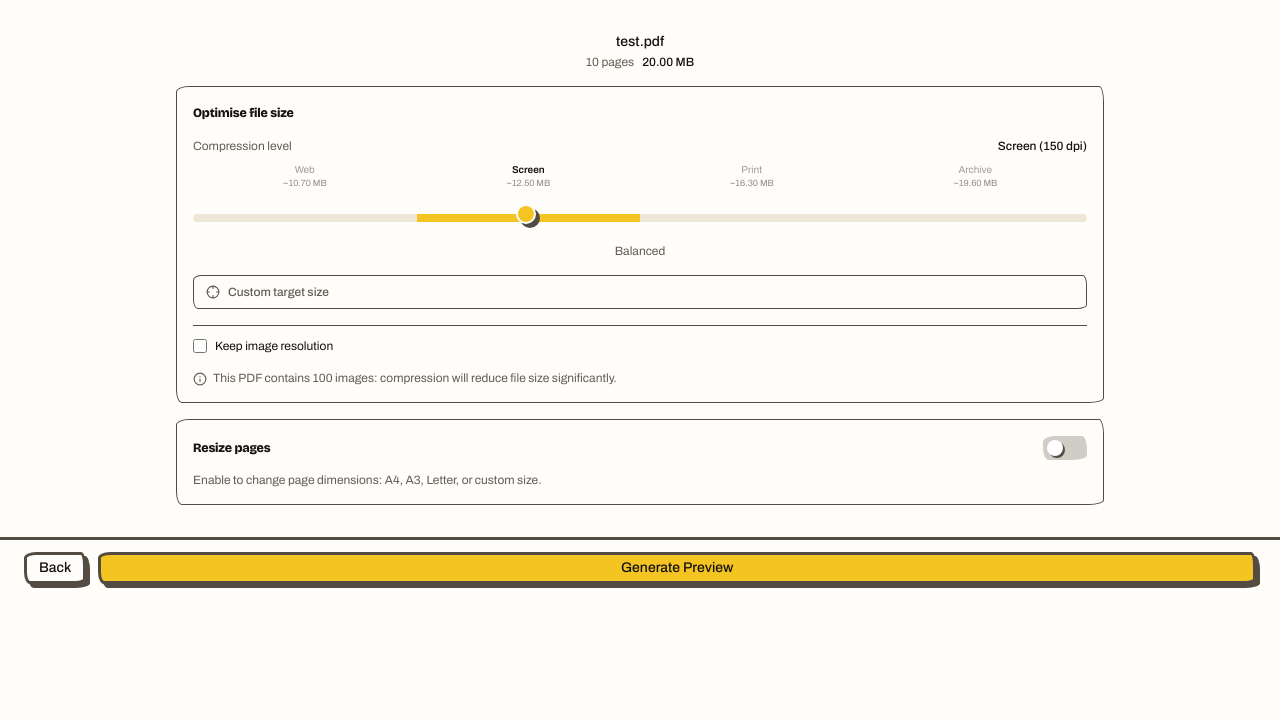
Test: ConfigureStep — custom target unit › [CFG-UNIT-01] withholds KB when no KB-scale target is reachable
Click the button "Custom target size" at (278, 292), box [193,274,1087,308]
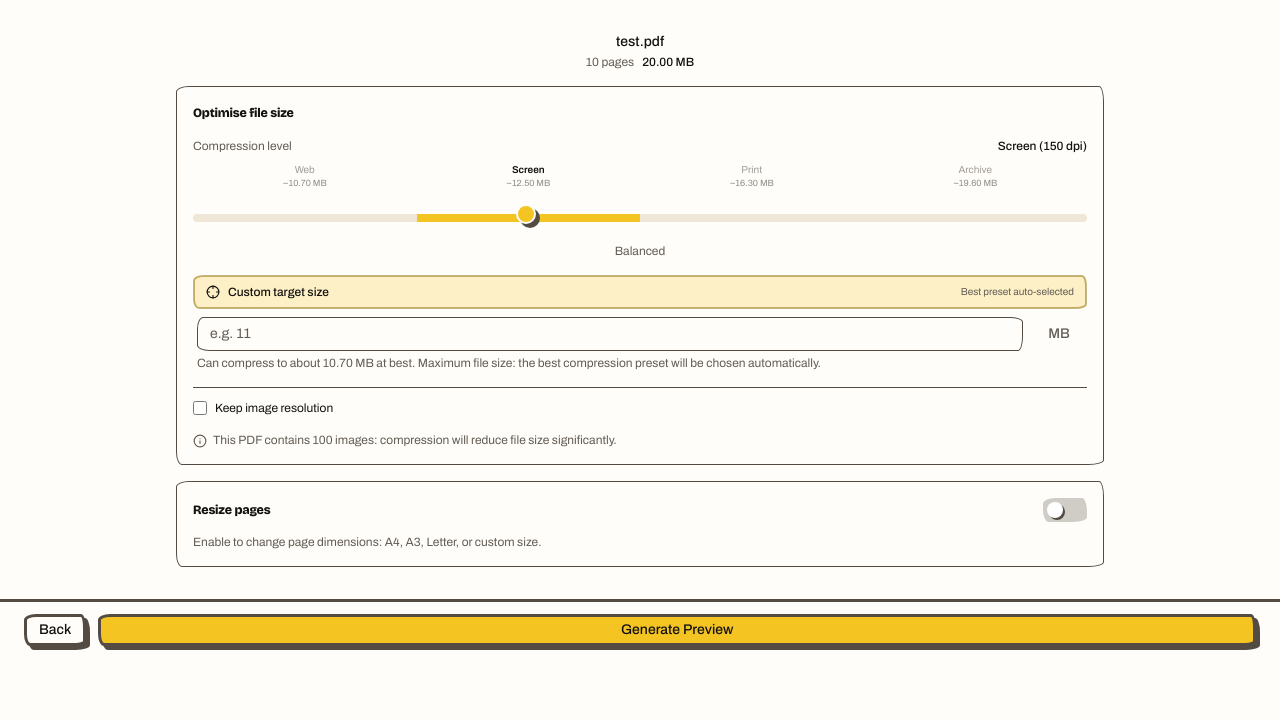
expect the text with test id "custom-target-unit" reads "MB": met, box [1048,326,1070,340]
